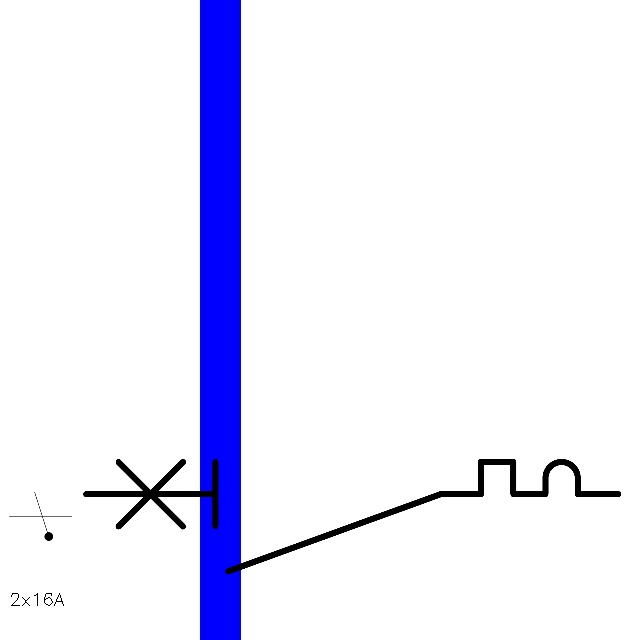interruptor_termomagnetico: (72, 448, 631, 585)
